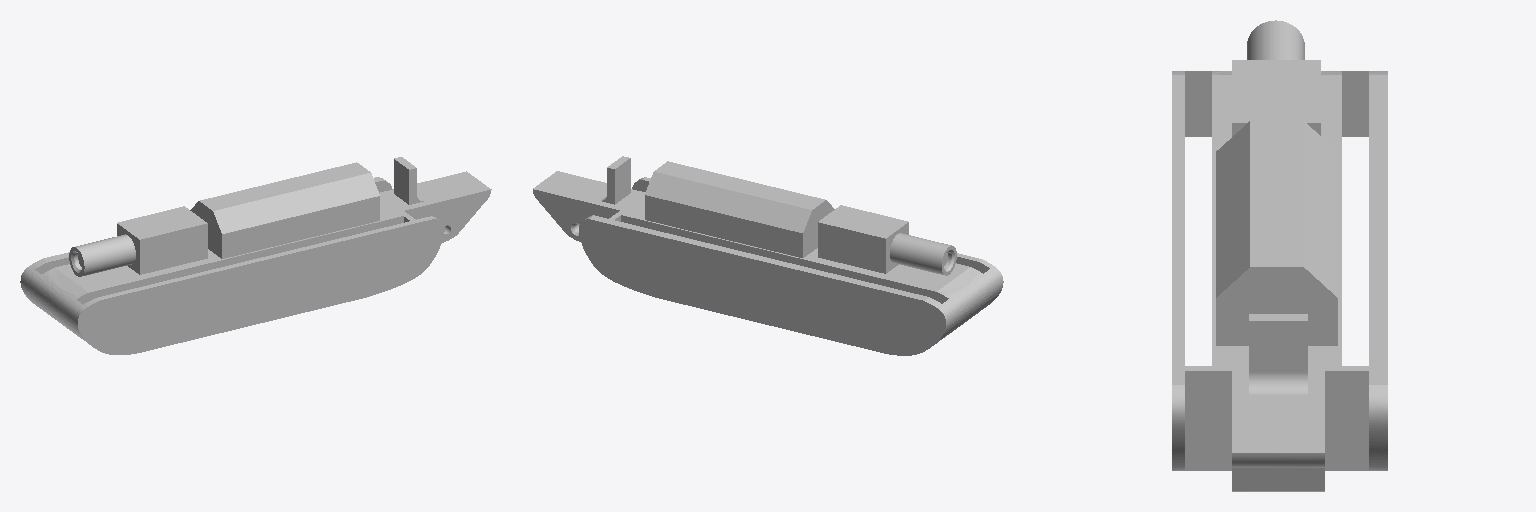
The robot description file, URDF, robot "Robot":
<?xml version="1.0" ?>
<robot name="Robot">
  <!--Generated by CROSS, a ROS Workbench for FreeCAD (https://github.com/galou/freecad.cross)-->
  <link name="chasis_link">
    <visual>
      <!--chassis/Body.-->
      <origin xyz="0.0 0.0 0.0" rpy="0.0 -0.0 0.0"/>
      <geometry>
        <mesh filename="package://freecad_scorpion/meshes/Unnamed_chassis_body.dae"/>
      </geometry>
    </visual>
    <inertial>
      <mass value="0.0"/>
      <origin xyz="0.0 0.0 0.0" rpy="0.0 -0.0 0.0"/>
      <inertia ixx="0.0" ixy="0.0" ixz="0.0" iyy="0.0" iyz="0.0" izz="0.0"/>
    </inertial>
  </link>
  <link name="tail1_link">
    <inertial>
      <mass value="0.0"/>
      <origin xyz="0.0 0.0 0.0" rpy="0.0 -0.0 0.0"/>
      <inertia ixx="0.0" ixy="0.0" ixz="0.0" iyy="0.0" iyz="0.0" izz="0.0"/>
    </inertial>
  </link>
  <link name="tail2_link">
    <inertial>
      <mass value="0.0"/>
      <origin xyz="0.0 0.0 0.0" rpy="0.0 -0.0 0.0"/>
      <inertia ixx="0.0" ixy="0.0" ixz="0.0" iyy="0.0" iyz="0.0" izz="0.0"/>
    </inertial>
  </link>
  <link name="tail3_link">
    <inertial>
      <mass value="0.0"/>
      <origin xyz="0.0 0.0 0.0" rpy="0.0 -0.0 0.0"/>
      <inertia ixx="0.0" ixy="0.0" ixz="0.0" iyy="0.0" iyz="0.0" izz="0.0"/>
    </inertial>
  </link>
  <link name="left_wheel_1_link">
    <inertial>
      <mass value="0.0"/>
      <origin xyz="0.01 0.0 0.01" rpy="0.0 -0.0 0.0"/>
      <inertia ixx="0.0" ixy="0.0" ixz="0.0" iyy="0.0" iyz="0.0" izz="0.0"/>
    </inertial>
  </link>
  <link name="left_wheel_2_link">
    <inertial>
      <mass value="0.0"/>
      <origin xyz="0.0 0.0 0.0" rpy="0.0 -0.0 0.0"/>
      <inertia ixx="0.0" ixy="0.0" ixz="0.0" iyy="0.0" iyz="0.0" izz="0.0"/>
    </inertial>
  </link>
  <link name="left_wheel_3_link">
    <inertial>
      <mass value="0.0"/>
      <origin xyz="0.0 0.0 0.0" rpy="0.0 -0.0 0.0"/>
      <inertia ixx="0.0" ixy="0.0" ixz="0.0" iyy="0.0" iyz="0.0" izz="0.0"/>
    </inertial>
  </link>
  <link name="left_wheel_4_link">
    <inertial>
      <mass value="0.0"/>
      <origin xyz="0.0 0.0 0.0" rpy="0.0 -0.0 0.0"/>
      <inertia ixx="0.0" ixy="0.0" ixz="0.0" iyy="0.0" iyz="0.0" izz="0.0"/>
    </inertial>
  </link>
  <link name="right_wheel_1_link">
    <inertial>
      <mass value="0.0"/>
      <origin xyz="0.0 0.0 0.0" rpy="0.0 -0.0 0.0"/>
      <inertia ixx="0.0" ixy="0.0" ixz="0.0" iyy="0.0" iyz="0.0" izz="0.0"/>
    </inertial>
  </link>
  <link name="right_wheel_2_link">
    <inertial>
      <mass value="0.0"/>
      <origin xyz="0.0 0.0 0.0" rpy="0.0 -0.0 0.0"/>
      <inertia ixx="0.0" ixy="0.0" ixz="0.0" iyy="0.0" iyz="0.0" izz="0.0"/>
    </inertial>
  </link>
  <link name="right_wheel_3_link">
    <inertial>
      <mass value="0.0"/>
      <origin xyz="0.0 0.0 0.0" rpy="0.0 -0.0 0.0"/>
      <inertia ixx="0.0" ixy="0.0" ixz="0.0" iyy="0.0" iyz="0.0" izz="0.0"/>
    </inertial>
  </link>
  <link name="right_wheel_4_link">
    <inertial>
      <mass value="0.0"/>
      <origin xyz="0.0 0.0 0.0" rpy="0.0 -0.0 0.0"/>
      <inertia ixx="0.0" ixy="0.0" ixz="0.0" iyy="0.0" iyz="0.0" izz="0.0"/>
    </inertial>
  </link>
  <joint name="joint1" type="fixed">
    <parent link="chasis_link"/>
    <child link="tail1_link"/>
    <origin xyz="0.19 0.0 0.04" rpy="0.0 0.523598775598299 0.0"/>
  </joint>
  <joint name="joint2" type="fixed">
    <parent link="tail1_link"/>
    <child link="tail2_link"/>
    <origin xyz="-0.065 0.0 -0.009" rpy="0.0 -0.0 0.0"/>
  </joint>
  <joint name="joint3" type="fixed">
    <parent link="tail2_link"/>
    <child link="tail3_link"/>
    <origin xyz="-0.042 0.0 0.023" rpy="0.0 -0.0 0.0"/>
  </joint>
  <joint name="left_wheel_j1" type="fixed">
    <parent link="chasis_link"/>
    <child link="left_wheel_1_link"/>
    <origin xyz="0.015 0.0085 0.015" rpy="0.0 -0.0 0.0"/>
  </joint>
  <joint name="left_wheel_j2" type="fixed">
    <parent link="chasis_link"/>
    <child link="left_wheel_2_link"/>
    <origin xyz="0.065 0.008 0.015" rpy="0.0 -0.0 0.0"/>
  </joint>
  <joint name="left_wheel_j3" type="fixed">
    <parent link="chasis_link"/>
    <child link="left_wheel_3_link"/>
    <origin xyz="0.115 0.0085 0.015" rpy="0.0 -0.0 0.0"/>
  </joint>
  <joint name="left_wheel_j4" type="fixed">
    <parent link="chasis_link"/>
    <child link="left_wheel_4_link"/>
    <origin xyz="0.165 0.0085 0.015" rpy="0.0 -0.0 0.0"/>
  </joint>
  <joint name="right_wheel_j1" type="fixed">
    <parent link="chasis_link"/>
    <child link="right_wheel_1_link"/>
    <origin xyz="0.015 0.045 0.015" rpy="0.0 -0.0 0.0"/>
  </joint>
  <joint name="right_wheel_j2" type="fixed">
    <parent link="chasis_link"/>
    <child link="right_wheel_2_link"/>
    <origin xyz="0.065 0.045 0.015" rpy="0.0 -0.0 0.0"/>
  </joint>
  <joint name="right_wheel_j3" type="fixed">
    <parent link="chasis_link"/>
    <child link="right_wheel_3_link"/>
    <origin xyz="0.115 0.045 0.015" rpy="0.0 -0.0 0.0"/>
  </joint>
  <joint name="right_wheel_j4" type="fixed">
    <parent link="chasis_link"/>
    <child link="right_wheel_4_link"/>
    <origin xyz="0.165 0.045 0.015" rpy="0.0 -0.0 0.0"/>
  </joint>
</robot>

--- What the picture shows (computed from the rendered views, not written in the file) ---
The picture shows the robot from 3 angles, left to right: view 1: azimuth 30°, elevation 25°; view 2: azimuth 150°, elevation 25°; view 3: azimuth 270°, elevation 25°; orthographic projection.
Robot: Robot — 12 links, 11 joints (11 fixed); root link chasis_link; default pose: all joints at 0.
Links seen in each view (by area): view 1: chasis_link; view 2: chasis_link; view 3: chasis_link.
Link boxes in pixels (x1,y1,x2,y2): chasis_link: (20,157,491,354); chasis_link: (533,156,1003,355); chasis_link: (1172,20,1387,491).
Bounding box of the posed robot: 0.217 × 0.05 × 0.05 m (x, y, z).
Meshes: 1 distinct files referenced, 1 mesh visuals loaded (1 Collada DAE).